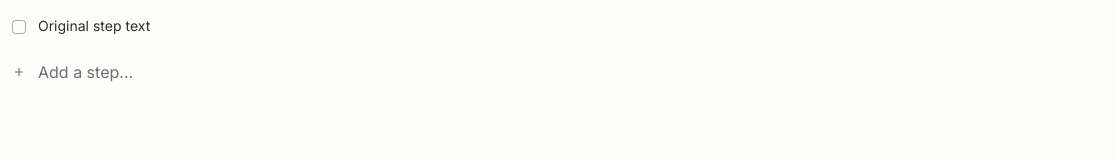
Test: SubtaskList - keyboard navigation contract › saves edited step text on Enter during edit mode
Step 1. Click the button "Original step text" → (94, 26), box left=38, top=17, right=150, bottom=34
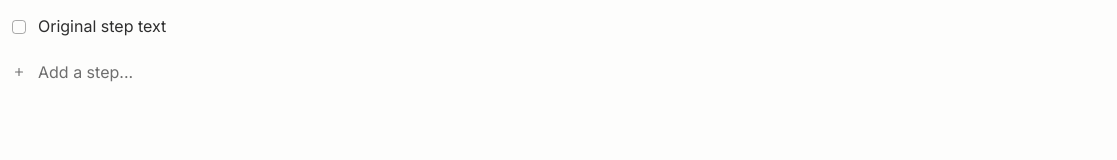
Step 2. Replace the text in the field named "Edit step" with "Updated step text" → (569, 26), box left=38, top=12, right=1100, bottom=40
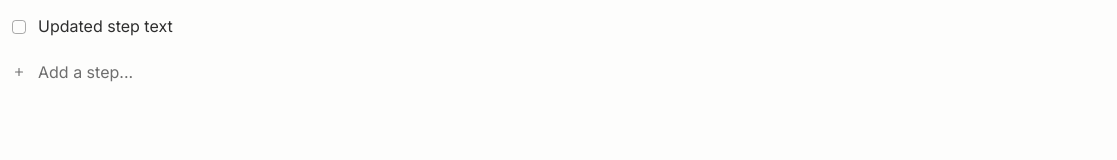
Step 3. Press Enter in the field named "Edit step", box left=38, top=12, right=1100, bottom=40
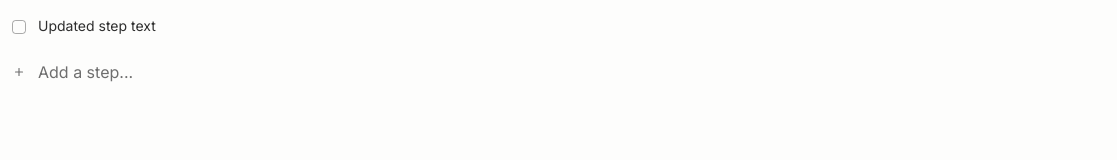
Result: the button "Updated step text" is shown at left=38, top=17, right=156, bottom=34
